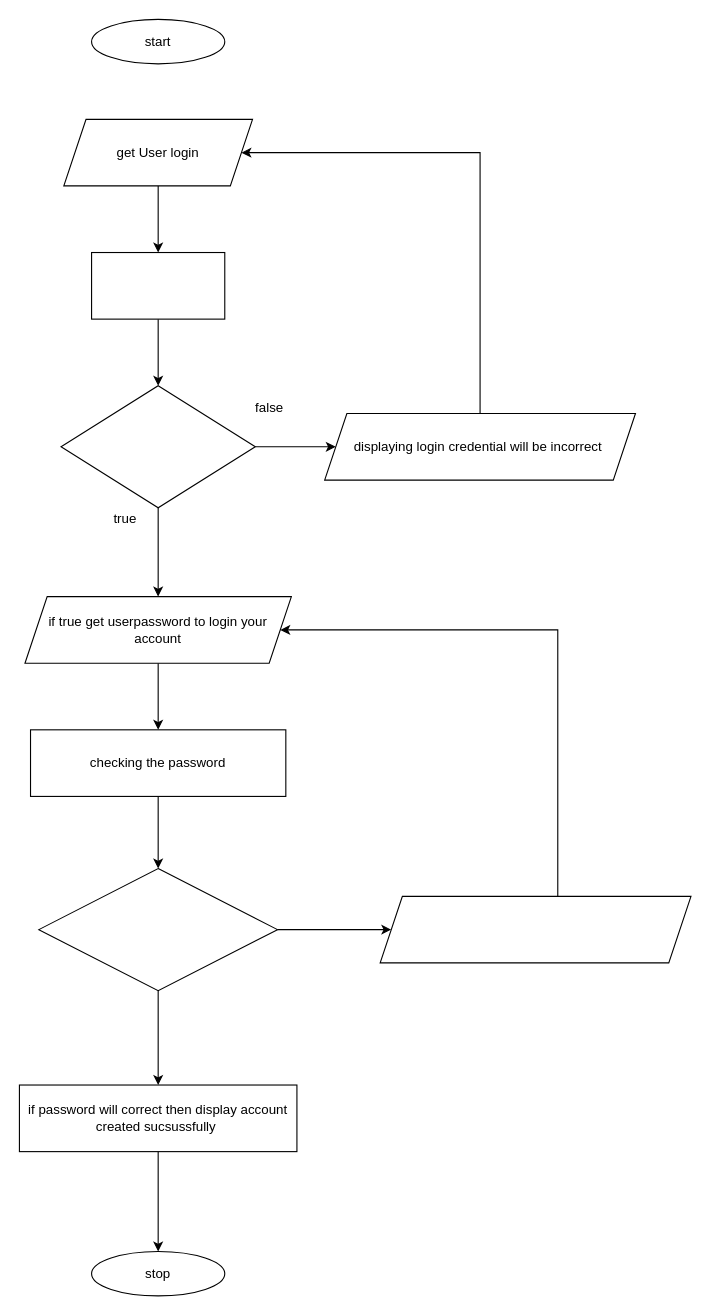
The diagram is 710 pixels wide and 1315 high, and some of its shapes have lost their labels. Each missing label, with the centre of its shape:
check login: point 157,285
displaying password is incorrect: point 535,929
user_log = login account?: point 157,446
userpassword = password ?: point 158,929
